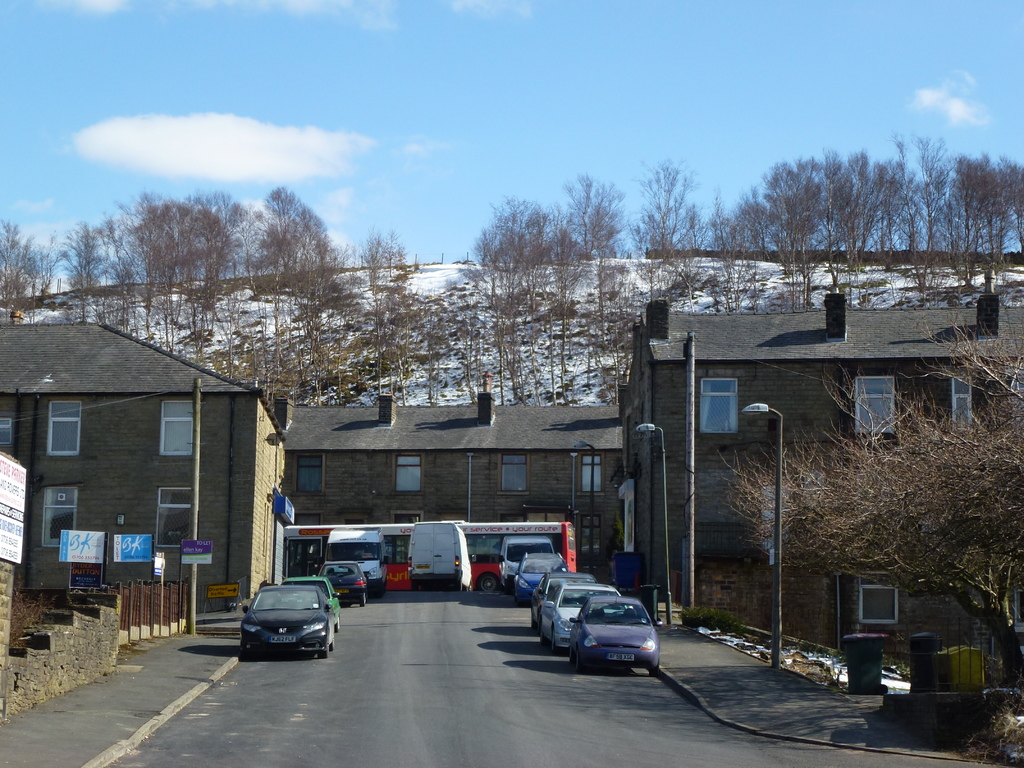Car: (498, 535, 659, 674), (237, 581, 335, 657), (282, 576, 339, 628), (315, 560, 368, 608)
